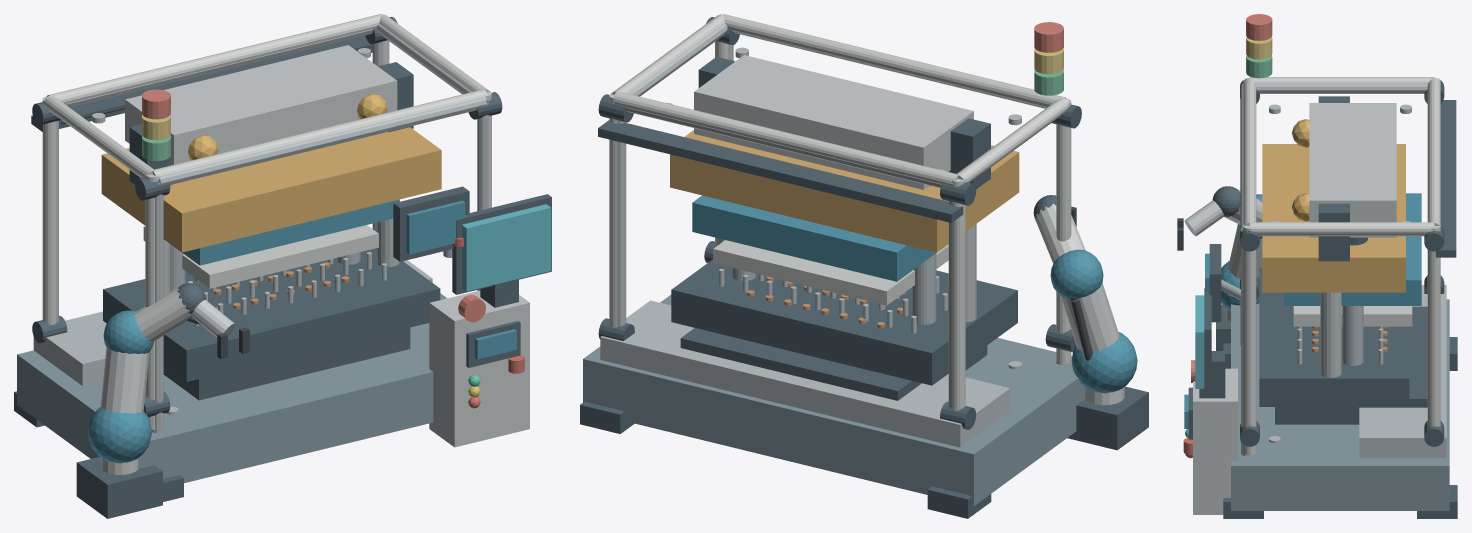
File: backtester.glb
The picture shows the model from 3 angles, left to right: view 1: azimuth 30°, elevation 25°; view 2: azimuth 150°, elevation 25°; view 3: azimuth 270°, elevation 25°; orthographic projection. The views are drawn at different scales.
Parts seen in each view (by area): view 1: fabricated_base, moving_test_head, test_nest, v9_90, v9_30, operator_hmi_screen, v9_59, v9_65, v9_20, v9_37, v9_64, toprail_1.5 (+29 smaller); view 2: fabricated_base, test_nest, v9_90, control_plinth, moving_test_head, v9_64, v9_24, v9_59, v9_65, v9_21, v9_20, v9_37 (+22 smaller); view 3: fabricated_base, moving_test_head, test_nest, v9_90, v9_30, control_plinth, v9_59, v9_64, v9_15, v9_24, v9_23, v9_10 (+31 smaller).
Part boxes in pixels (left/top/right/bottom): fabricated_base: left=17, top=293, right=446, bottom=483; moving_test_head: left=101, top=127, right=441, bottom=252; test_nest: left=103, top=248, right=440, bottom=381; v9_90: left=125, top=45, right=397, bottom=165; v9_30: left=429, top=290, right=529, bottom=447; operator_hmi_screen: left=462, top=204, right=551, bottom=291; v9_59: left=163, top=327, right=410, bottom=400; v9_65: left=143, top=225, right=378, bottom=288; v9_20: left=47, top=14, right=381, bottom=103; v9_37: left=76, top=457, right=162, bottom=518; v9_64: left=182, top=199, right=399, bottom=265; toprail_1.5: left=159, top=97, right=486, bottom=184; fabricated_base: left=583, top=294, right=1085, bottom=506; test_nest: left=671, top=259, right=1017, bottom=385; v9_90: left=694, top=55, right=973, bottom=189; control_plinth: left=600, top=300, right=1010, bottom=447; moving_test_head: left=670, top=130, right=1019, bottom=252; v9_64: left=692, top=195, right=936, bottom=281; v9_24: left=598, top=120, right=963, bottom=222; v9_59: left=680, top=328, right=987, bottom=400; v9_65: left=713, top=240, right=948, bottom=305; v9_21: left=722, top=14, right=1066, bottom=107; v9_20: left=613, top=92, right=957, bottom=185; v9_37: left=1067, top=386, right=1148, bottom=450; fabricated_base: left=1231, top=299, right=1449, bottom=510; moving_test_head: left=1262, top=144, right=1405, bottom=292; test_nest: left=1259, top=267, right=1409, bottom=406; v9_90: left=1309, top=103, right=1396, bottom=237; v9_30: left=1193, top=368, right=1237, bottom=514; control_plinth: left=1359, top=285, right=1446, bottom=457; v9_59: left=1275, top=306, right=1427, bottom=424; v9_64: left=1284, top=193, right=1421, bottom=305; v9_15: left=1243, top=225, right=1256, bottom=455; v9_24: left=1435, top=100, right=1456, bottom=257; v9_23: left=1250, top=222, right=1434, bottom=235; v9_10: left=1427, top=225, right=1440, bottom=426.
Bounding box in the file's own units: 7.25 × 6.15 × 4.48.
